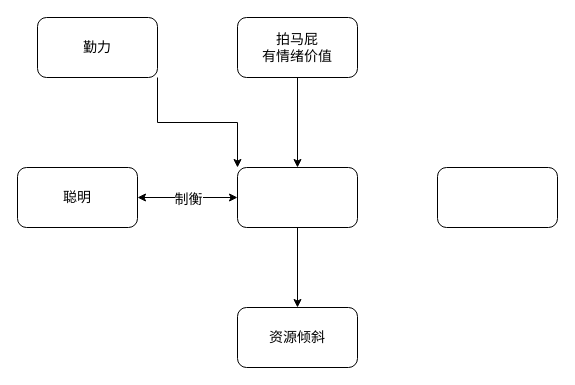
This 575x385 diagram has some shape labels left out. The centre of each missing label's shape, as x and y in pixels:
"安全" belongs at point (297, 197).
"谦虚" belongs at point (497, 197).
